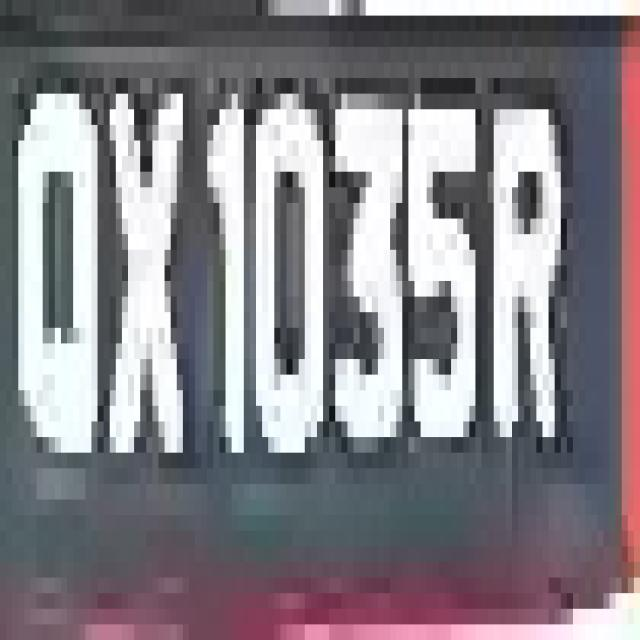0: (238, 63, 329, 437)
1: (195, 78, 250, 515)
3: (317, 47, 408, 453)
5: (402, 47, 476, 468)
Q: (6, 47, 110, 484)
R: (469, 94, 561, 546)
X: (104, 78, 201, 515)
